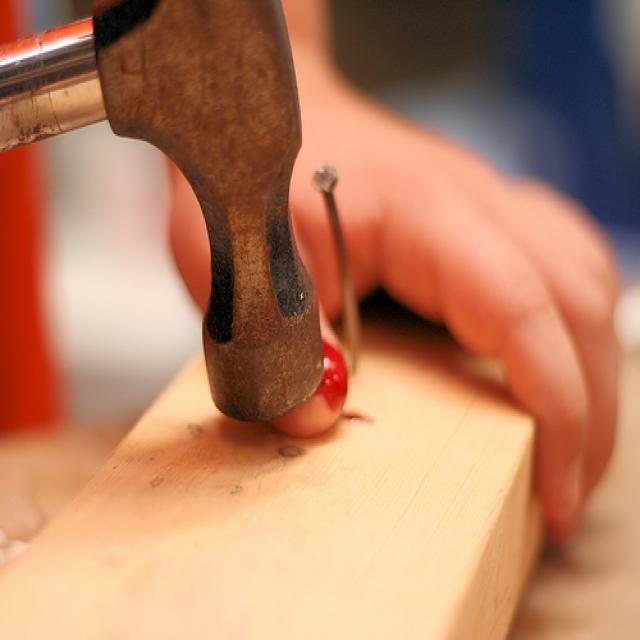hammer: (0, 0, 337, 442)
